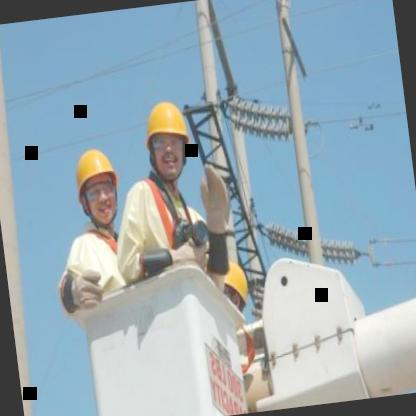helmet: (137, 90, 198, 185), (68, 138, 127, 234), (219, 262, 250, 312)
